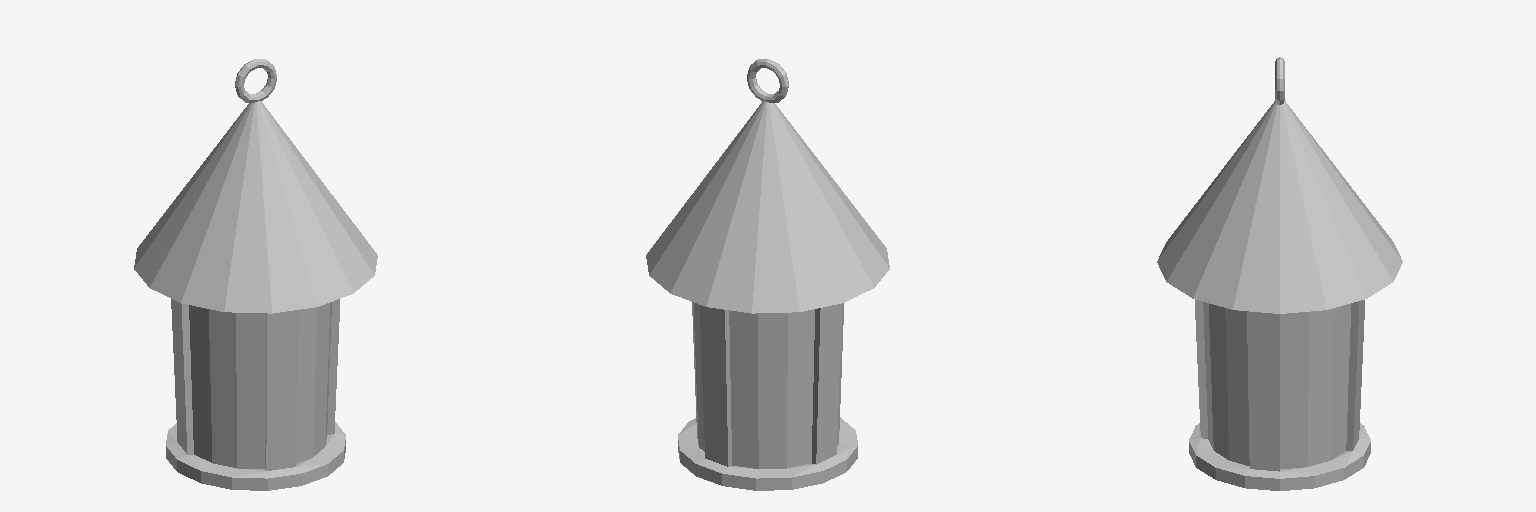
File: Lamp.obj
3 views of the same model, side by side, from view 1: azimuth 30°, elevation 25°; view 2: azimuth 150°, elevation 25°; view 3: azimuth 270°, elevation 25° (orthographic).
Parts seen in each view (by area): view 1: Torus; view 2: Torus; view 3: Torus.
Boxes of the visible parts, box(x1,y1,x2,y2) form: Torus: box(134, 59, 377, 490); Torus: box(646, 59, 889, 490); Torus: box(1157, 57, 1402, 490).
Bounding box in the file's own units: 1.28 × 2.26 × 1.28.